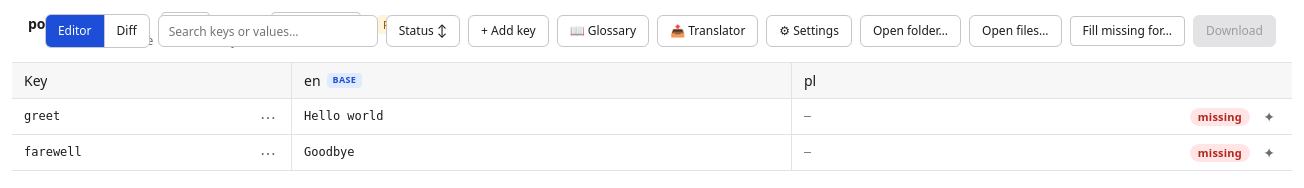
Scenario: EditorView search filter (smoke) › filters rows by key path and restores them when the input is cleared
Expected: the text "greet" is shown, [24,109,60,123]
Expected: the text "farewell" is shown, [24,145,82,159]
Type "greet" into the search field labelled "Search keys or values" at (268, 31), box [158,15,378,47]
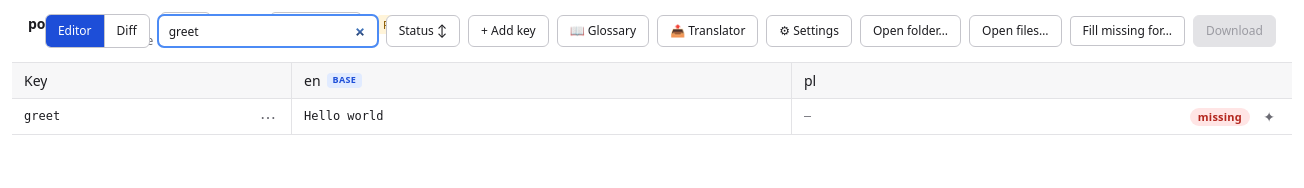
Expected: the text "greet" is shown, [24,109,60,123]
Expected: the text "farewell" is gone
Clear the search field named "Search keys or values" at (268, 31), box [158,15,378,47]
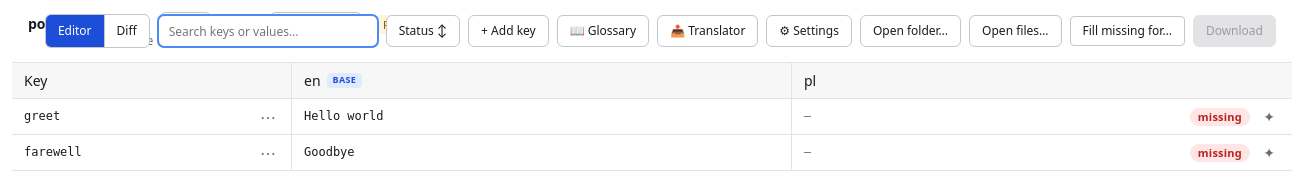
Expected: the text "greet" is shown, [24,109,60,123]
Expected: the text "farewell" is shown, [24,145,82,159]
